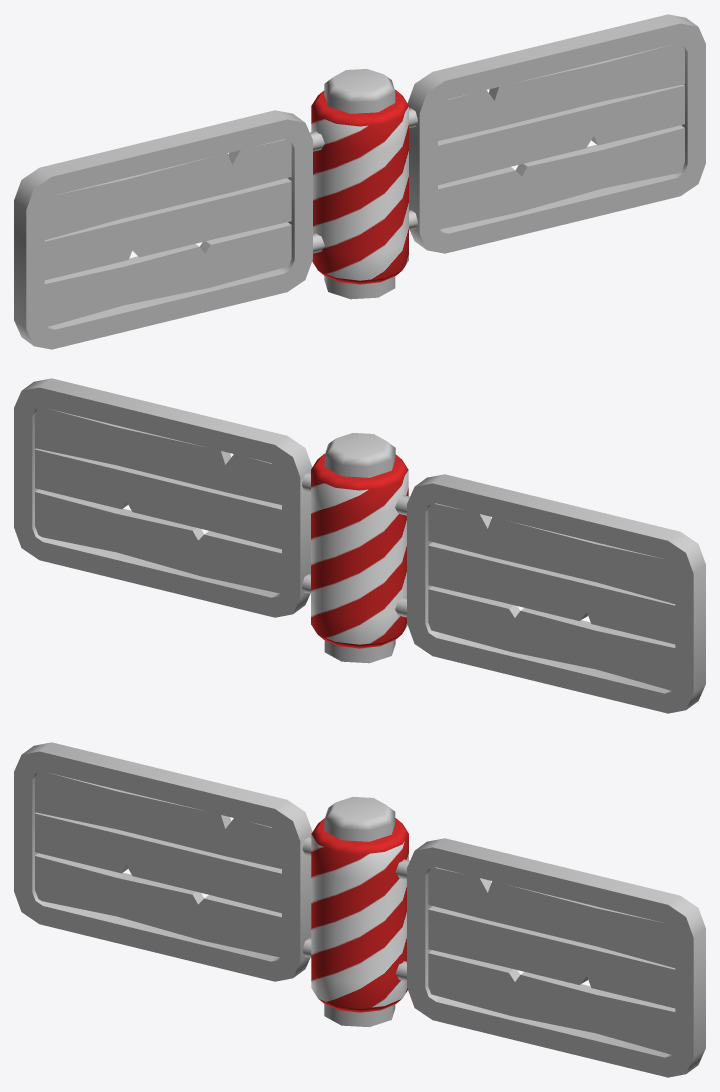
The model's file is obstacle_6_001.fbx.
3 views of the same model, one above another, from view 1: azimuth 30°, elevation 25°; view 2: azimuth 150°, elevation 25°; view 3: azimuth 330°, elevation 25° (orthographic).
Parts seen in each view (by area): view 1: obstacle_6_001; view 2: obstacle_6_001; view 3: obstacle_6_001.
Boxes of the visible parts, box(x1,y1,x2,y2) form: obstacle_6_001: box(14, 14, 705, 349); obstacle_6_001: box(14, 378, 705, 713); obstacle_6_001: box(14, 742, 705, 1077).
Bounding box in the file's own units: 553 × 68.95 × 159.
